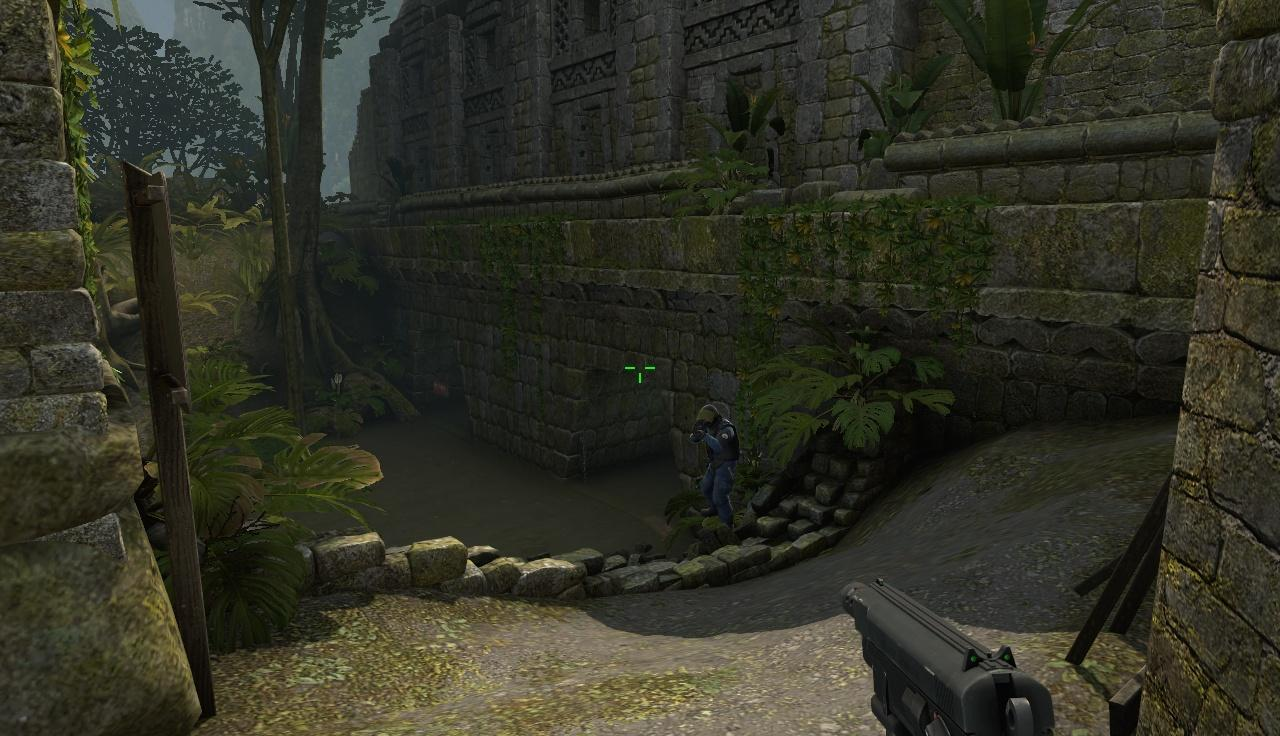ct: (684, 406, 741, 519)
cthead: (698, 405, 722, 427)
pistol: (833, 580, 1103, 736)
